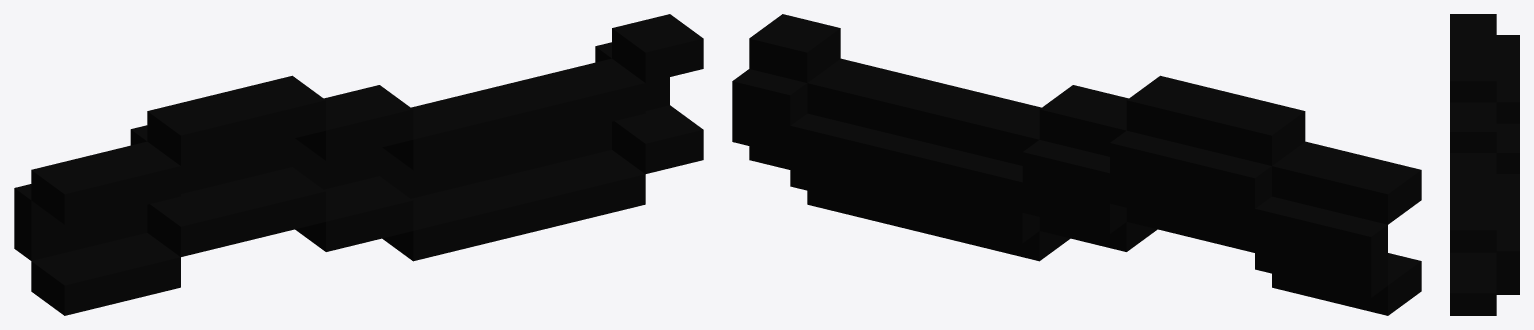
File: Slider_Wavy_Empty_Mid.002.fbx
The picture shows the model from 3 angles, left to right: view 1: azimuth 30°, elevation 25°; view 2: azimuth 150°, elevation 25°; view 3: azimuth 270°, elevation 25°; orthographic projection. The views are drawn at different scales.
Parts seen in each view (by area): view 1: Slider_Wavy_Empty_Mid.002; view 2: Slider_Wavy_Empty_Mid.002; view 3: Slider_Wavy_Empty_Mid.002.
Boxes of the visible parts, <box> form: Slider_Wavy_Empty_Mid.002: <box>14,14,703,315</box>; Slider_Wavy_Empty_Mid.002: <box>732,14,1421,315</box>; Slider_Wavy_Empty_Mid.002: <box>1450,14,1519,315</box>.
Size of the model in its own units: 2.2 by 0.6 by 0.3.
